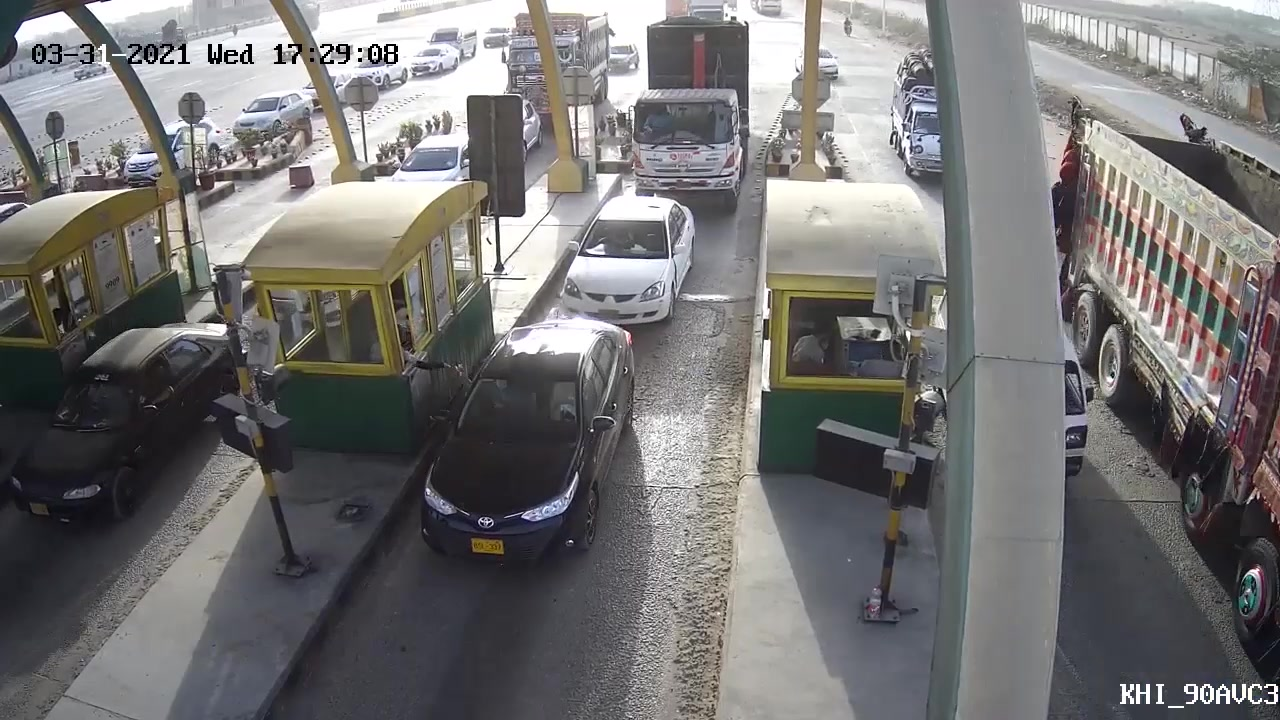F1: (414, 316, 635, 570)
